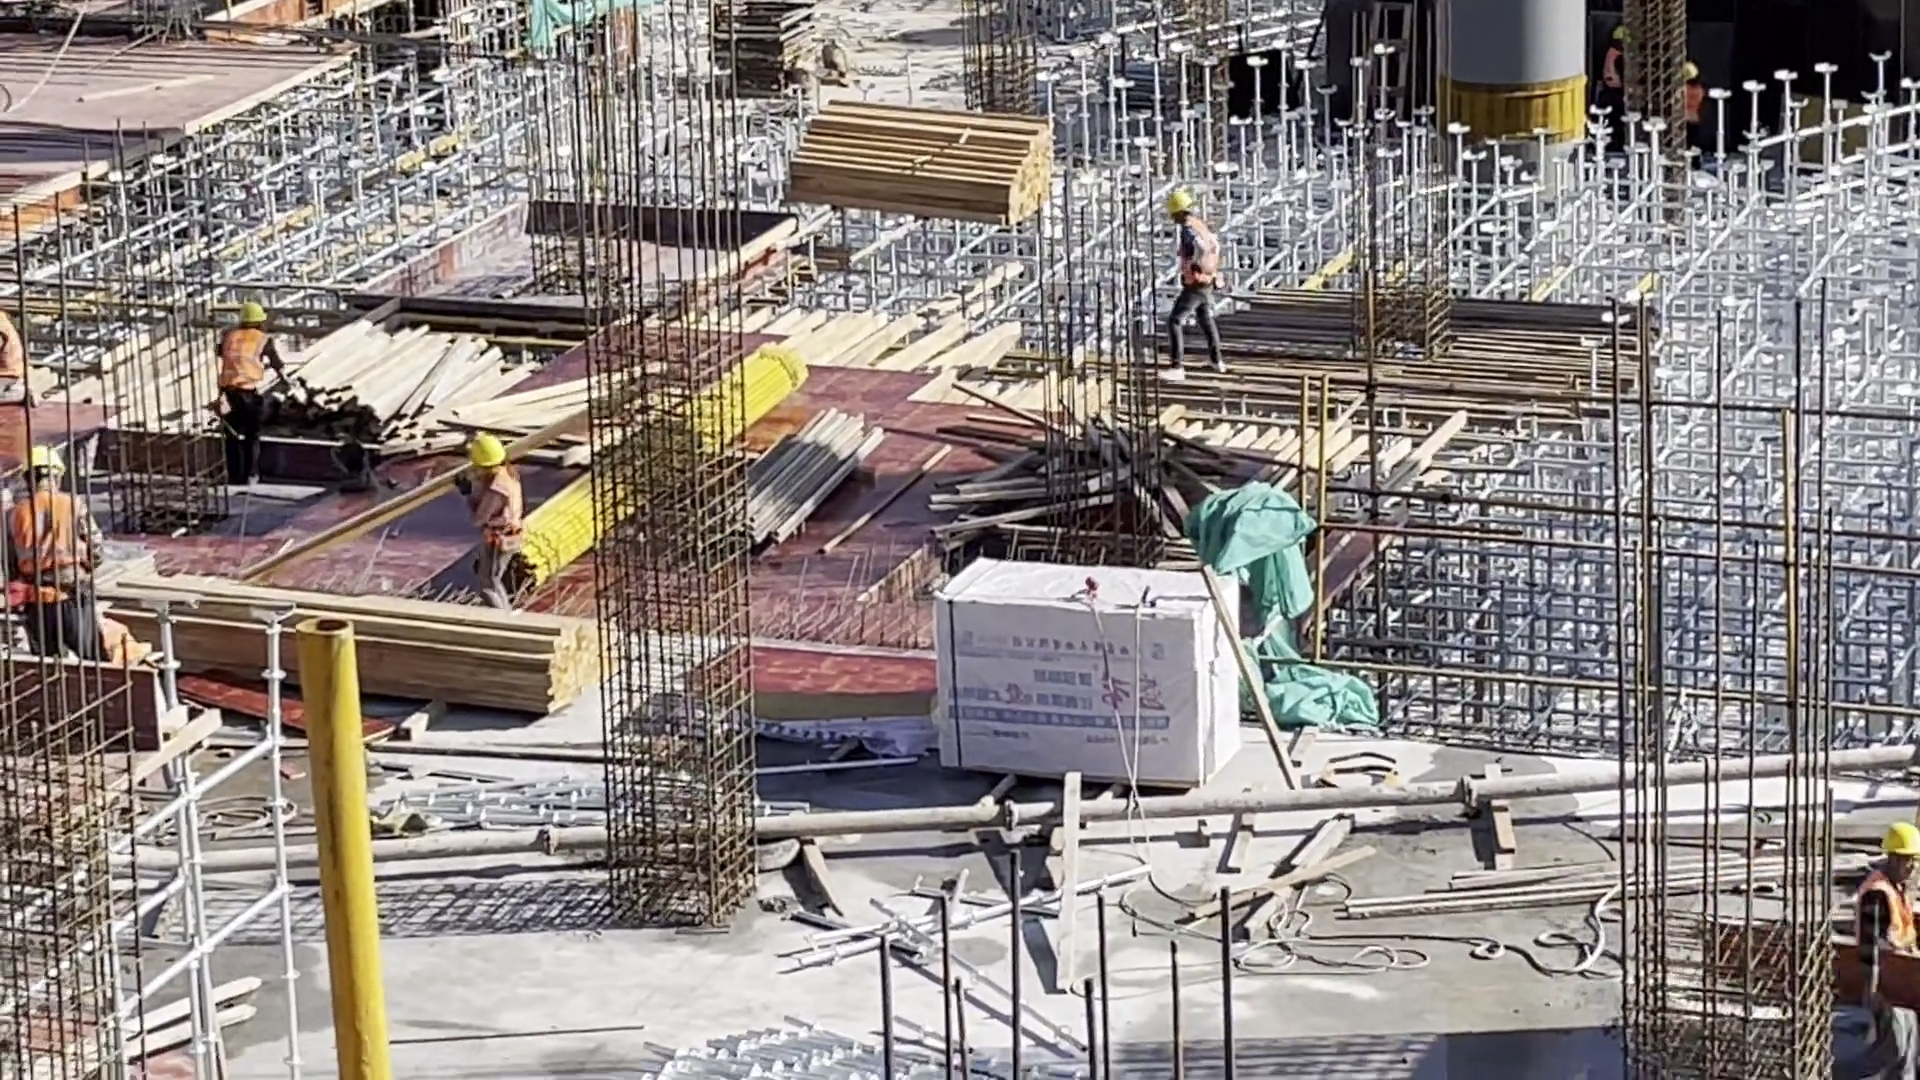helmet: (26, 427, 98, 487), (1878, 814, 1920, 865), (469, 429, 524, 467), (1153, 192, 1194, 219), (233, 299, 279, 322), (1681, 51, 1709, 86), (1616, 26, 1628, 47), (335, 6, 349, 22)
person: (1, 437, 124, 678), (1162, 196, 1252, 366), (197, 291, 269, 486), (464, 443, 529, 623), (1862, 828, 1920, 1013), (1604, 1, 1642, 139), (1, 332, 46, 416), (335, 6, 375, 44)
vest: (14, 492, 96, 614), (194, 324, 278, 384), (474, 467, 529, 552), (1876, 872, 1920, 975), (1173, 219, 1224, 294), (1, 328, 38, 394), (1604, 44, 1631, 101), (1683, 69, 1711, 121), (344, 12, 371, 29)
